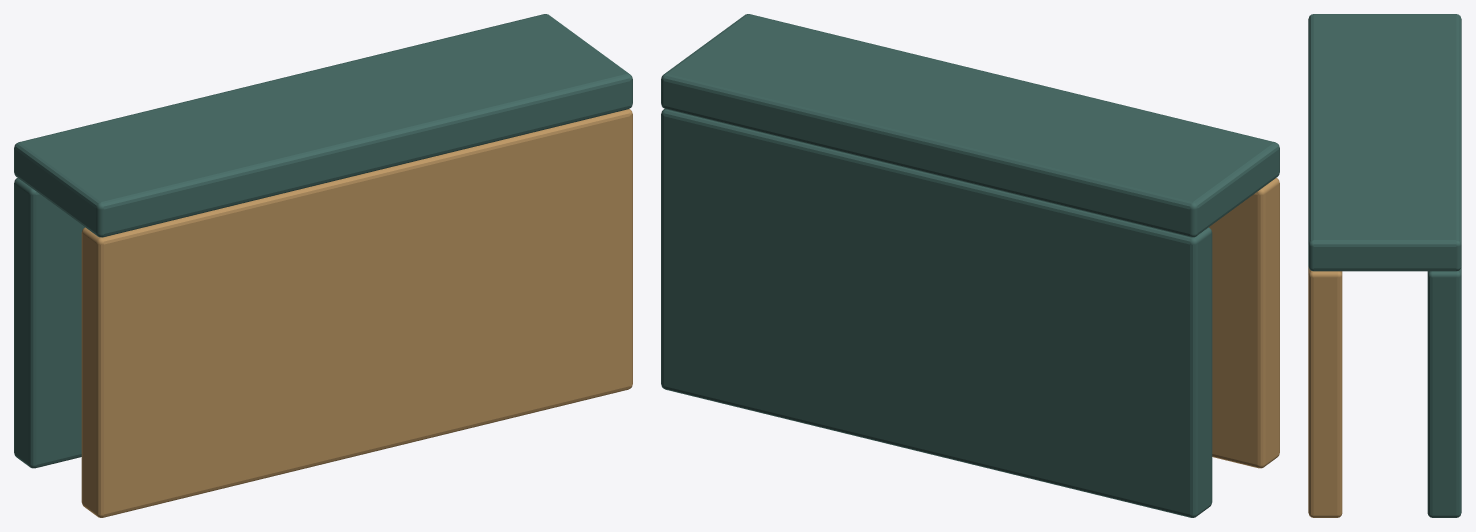
File: housing.glb
The picture shows the model from 3 angles, left to right: view 1: azimuth 30°, elevation 25°; view 2: azimuth 150°, elevation 25°; view 3: azimuth 270°, elevation 25°; orthographic projection. The views are drawn at different scales.
Parts seen in each view (by area): view 1: housing; view 2: housing; view 3: housing.
Part boxes in pixels (x1,y1,x2,y2): housing: (14,14,632,517); housing: (661,14,1279,517); housing: (1308,14,1461,517).
Size of the model in its own units: 0.032 by 0.018 by 0.009.
